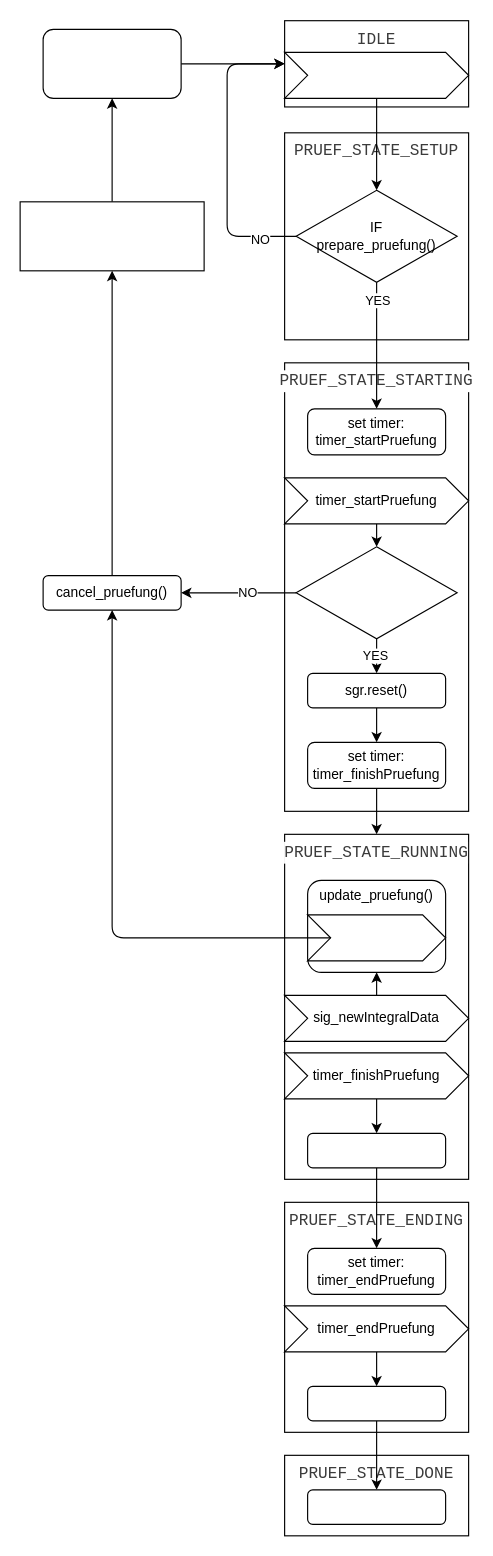
This 493x1556 diagram has some shape labels left out. The centre of each missing label's shape, as x and y in pixels:
end_pruefung(): [376,1403]
EXCEPT: [376,937]
finalize_pruefung(): [376,1150]
IF start_pruefung(): [376,592]
PRUEF_STATE_FAILURE: [111,236]
reportPruefung(): [376,1506]
reset ...: [111,63]
start_pruefungClicked(): [376,74]
